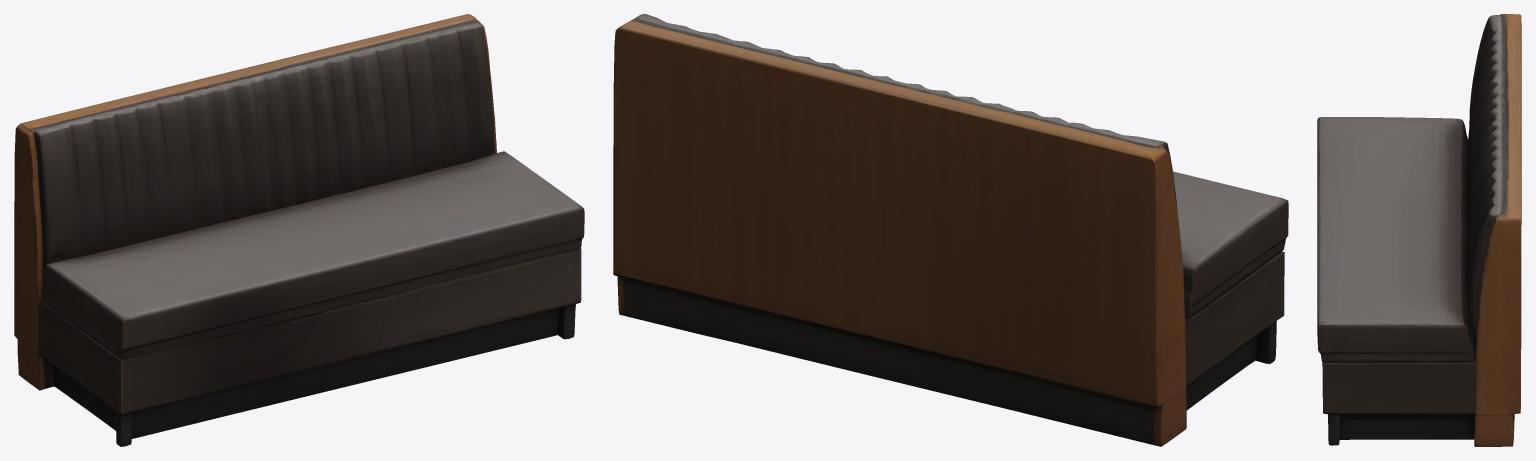
The model's file is sofa_dark_low.glb.
3 renders of one model, left to right at view 1: azimuth 30°, elevation 25°; view 2: azimuth 150°, elevation 25°; view 3: azimuth 270°, elevation 25°, orthographic. The views are drawn at different scales.
Parts seen in each view (by area): view 1: geometry_0; view 2: geometry_0; view 3: geometry_0.
Part boxes in pixels (bbox=[...]): geometry_0: bbox=[14, 14, 584, 446]; geometry_0: bbox=[613, 14, 1288, 446]; geometry_0: bbox=[1317, 14, 1521, 446].
Size of the model in its own units: 0.9962 by 0.5124 by 0.4131.
1 material, 1 textured.
